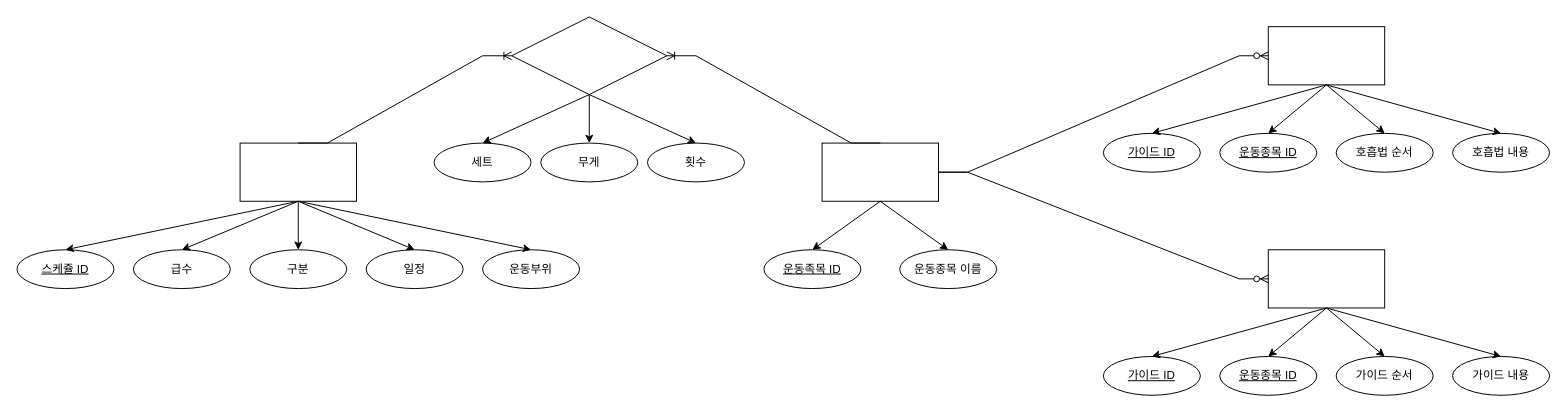
Some shapes in this 1567 by 412 pixel diagram are drawn without their labels. Each missing label, with the box of its shape:
스케쥴별 운동종목: (511, 16, 667, 95)
운동 스케쥴: (239, 142, 356, 201)
운동 종목: (821, 142, 938, 201)
운동가이드: (1267, 249, 1385, 308)
호흡법: (1267, 26, 1385, 85)
